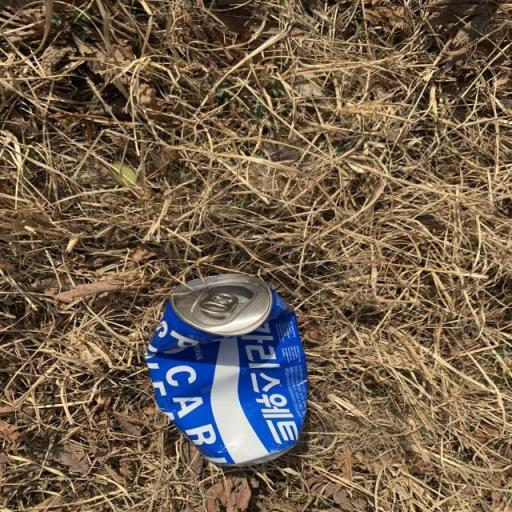metal: (112, 256, 326, 484)
